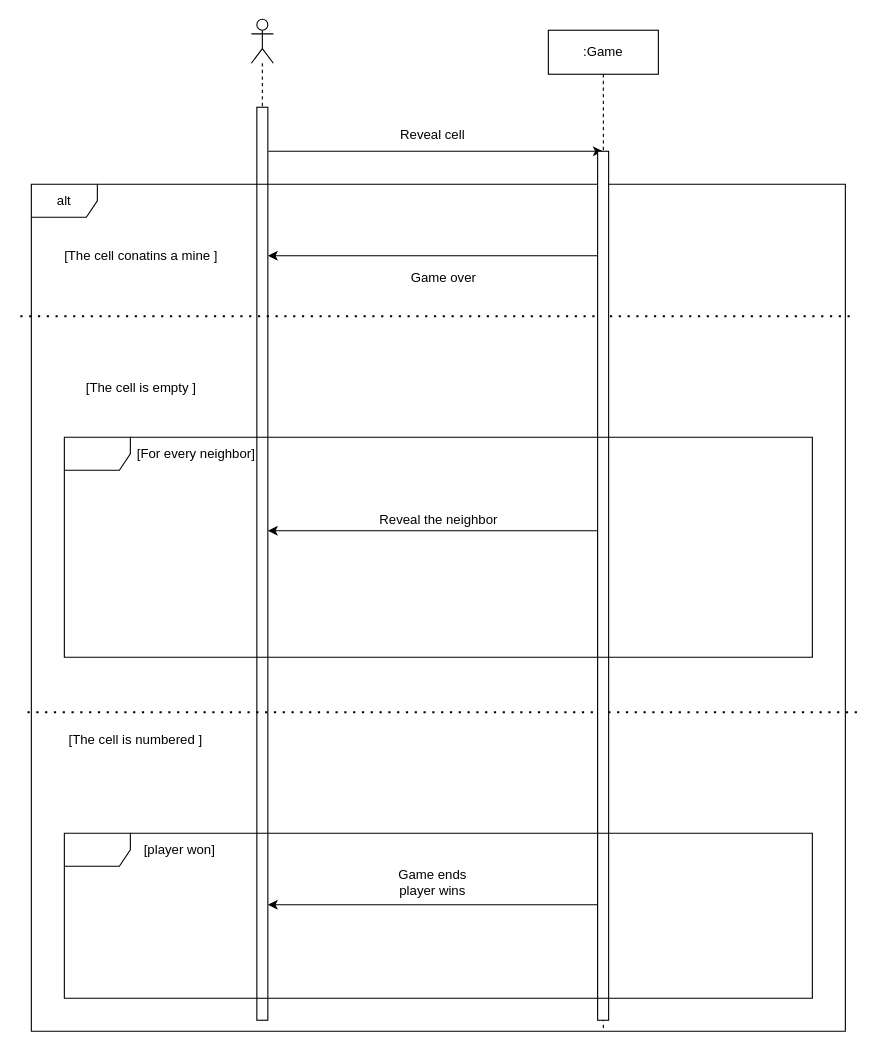
Some shapes in this 881 by 1051 pixel diagram are drawn without their labels. Here are the shapes that lost their labels. From the top down, the box of each, then its label:
(63, 436, 812, 657): Loop
(63, 832, 812, 998): Opt
